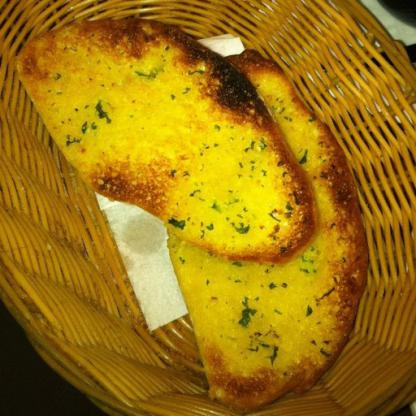toast bread: (161, 54, 364, 412), (17, 20, 310, 264)
